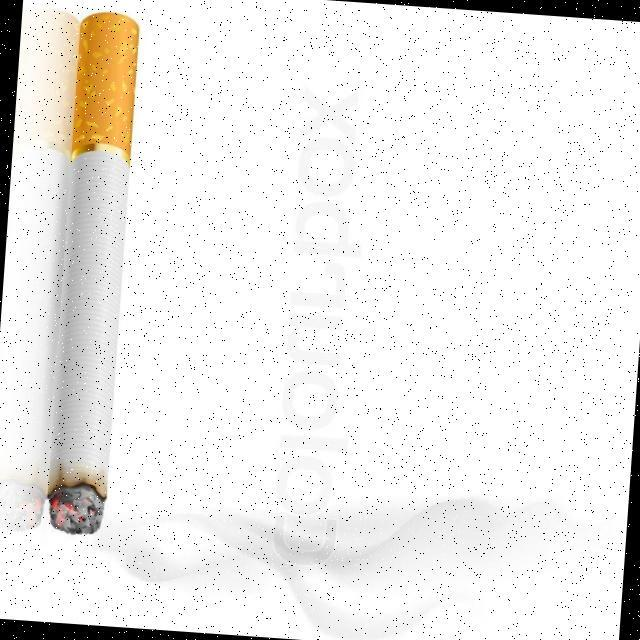cigarette: (42, 9, 151, 540)
